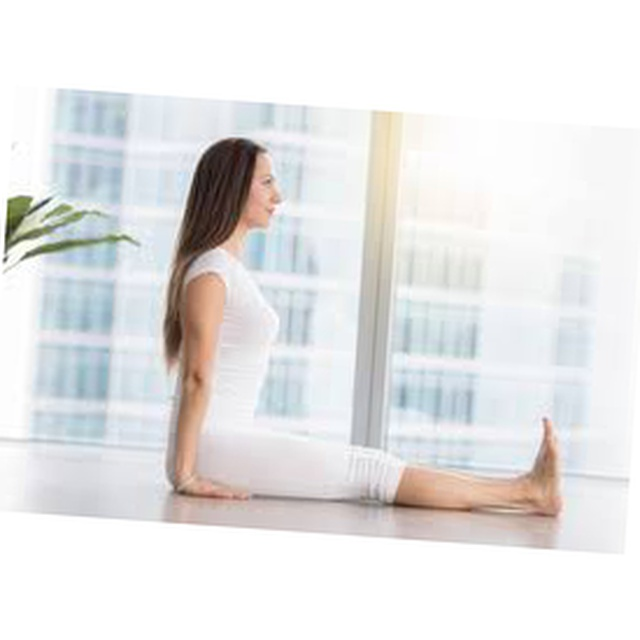Staff_Pose: (160, 135, 563, 518)
